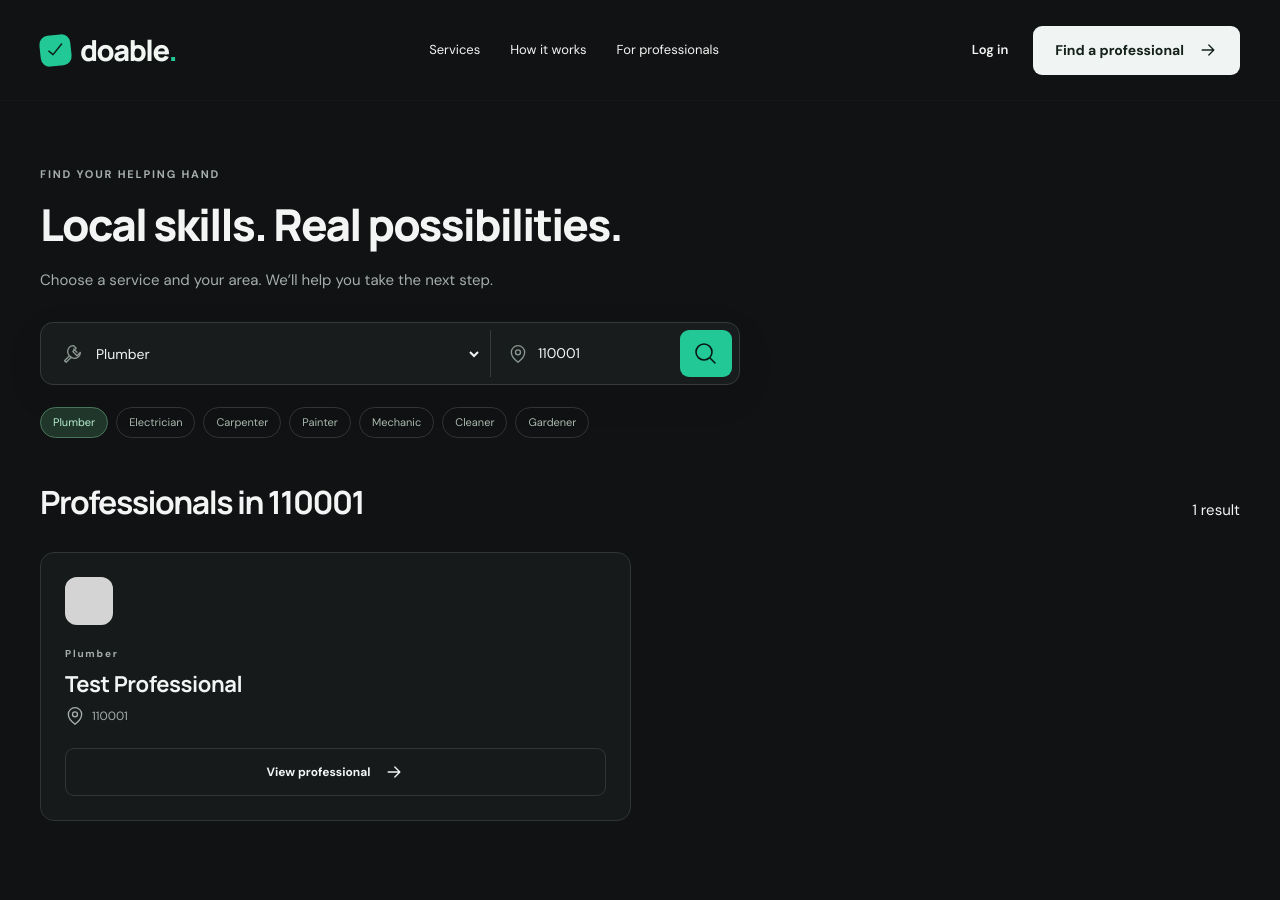
Test: changing a public service chip preserves pincode, refreshes results and updates the form
expect the heading "Test Professional" is shown: met, box [65,671,242,697]
What coordinates should you click on to do the following:
click the link "Cleaner"
I would click on:
 (475, 423)
Its box is [442,407,508,438].
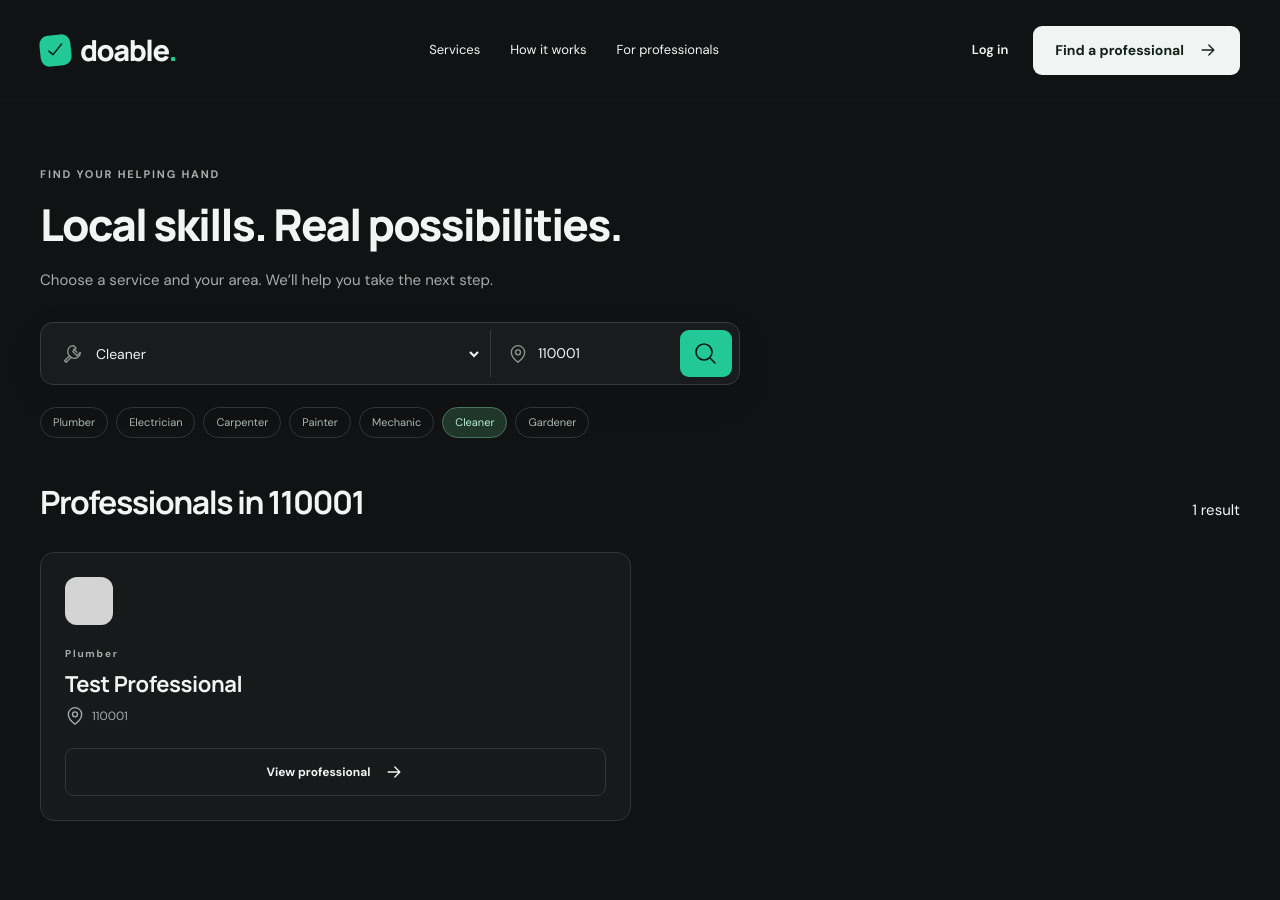
expect the field named "Six-digit pincode" holds "110001": met, box [538,330,670,377]
expect the dropdown named "Service" shows "Cleaner": met, box [92,331,482,377]
